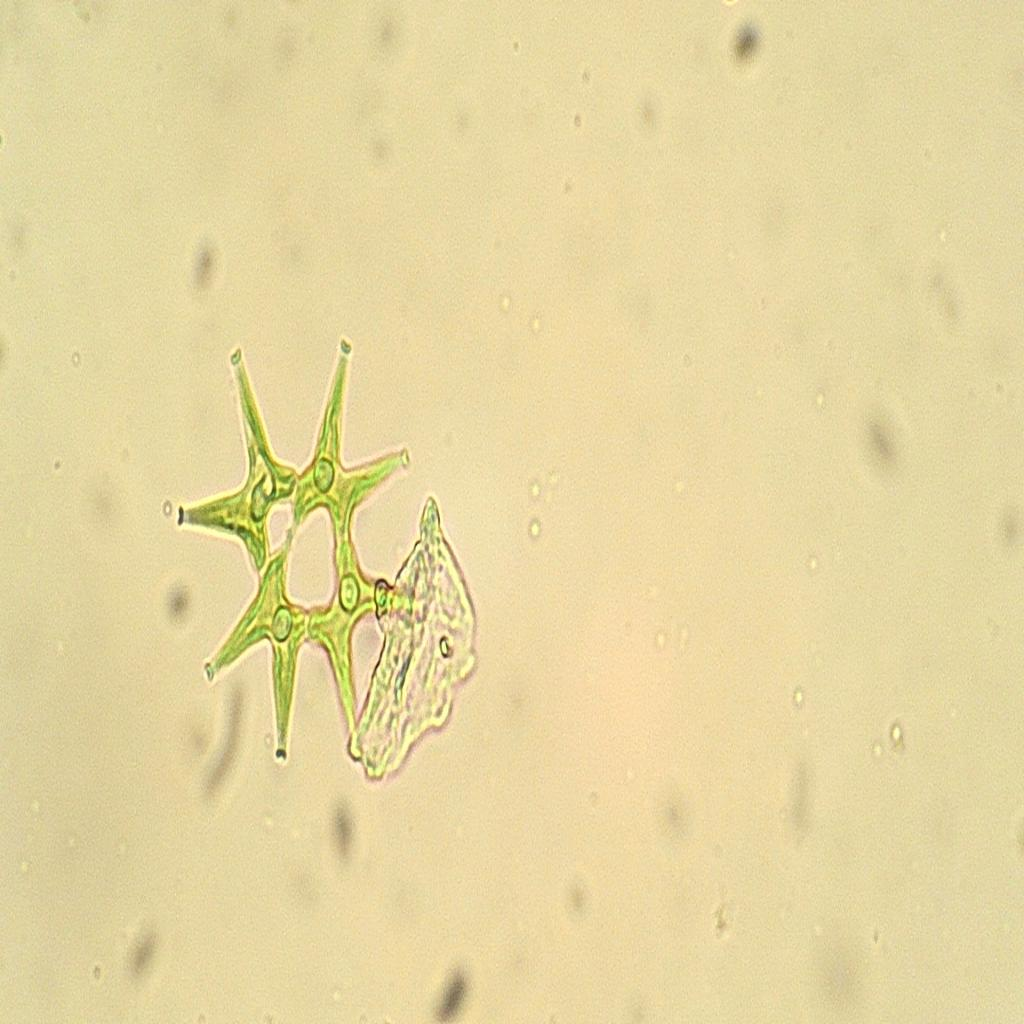Pediastrum_75FO: (157, 310, 441, 786)
